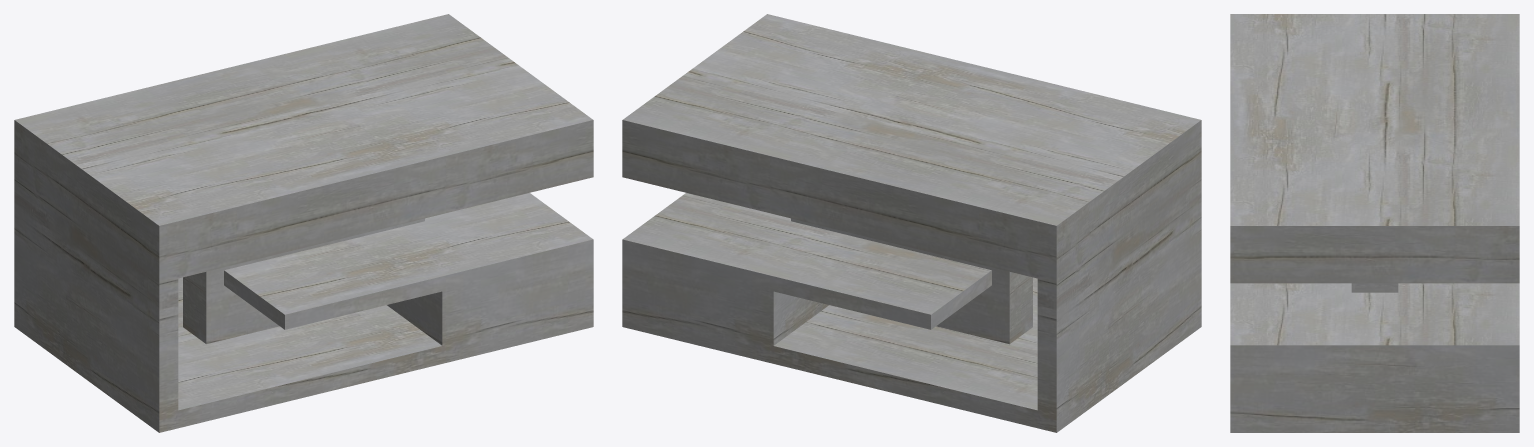
File: Table_27.glb
The picture shows the model from 3 angles, left to right: view 1: azimuth 30°, elevation 25°; view 2: azimuth 150°, elevation 25°; view 3: azimuth 270°, elevation 25°; orthographic projection.
Parts seen in each view (by area): view 1: Table_27; view 2: Table_27; view 3: Table_27.
Boxes of the visible parts, x1=… form: Table_27: x1=14, y1=14, x2=593, y2=432; Table_27: x1=622, y1=14, x2=1201, y2=432; Table_27: x1=1230, y1=14, x2=1519, y2=432.
Bounding box in the file's own units: 1.46 × 0.6671 × 0.8456.
Materials: 1 (1 with a texture image).
